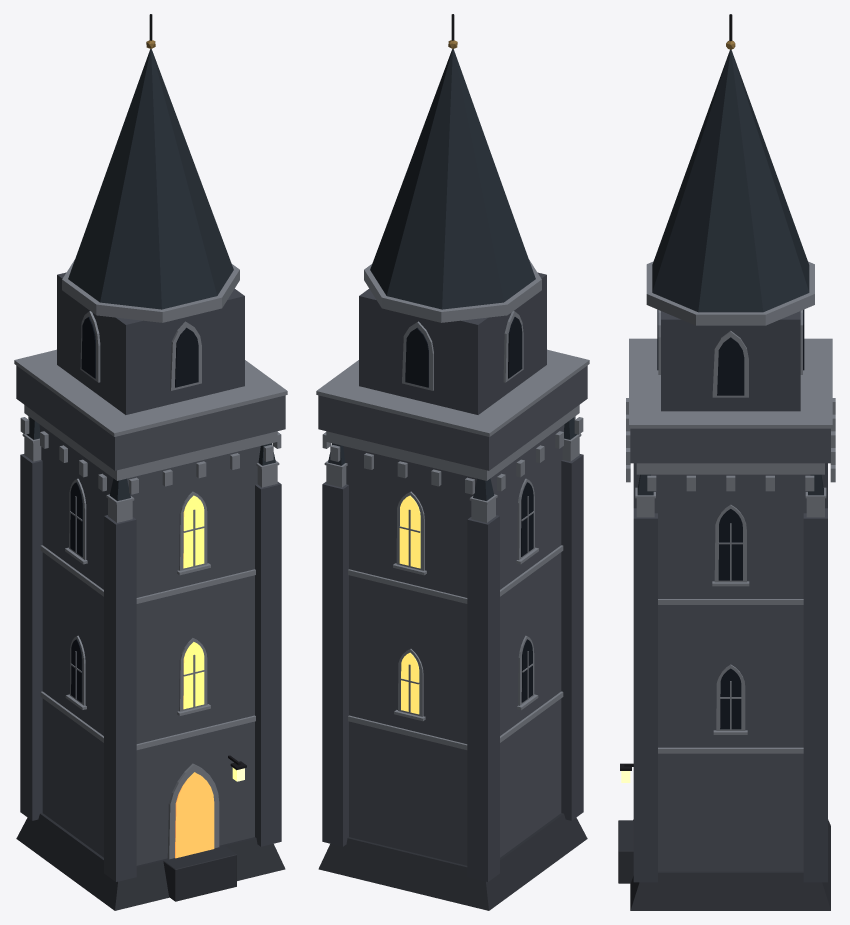
The model's file is gothic_bridge_tower.glb.
3 renders of one model, left to right at view 1: azimuth 30°, elevation 25°; view 2: azimuth 150°, elevation 25°; view 3: azimuth 270°, elevation 25°, orthographic.
Visible parts, largest first — view 1: gothic_bridge_tower; view 2: gothic_bridge_tower; view 3: gothic_bridge_tower.
Part boxes in pixels (left/top/right/bottom): gothic_bridge_tower: left=14, top=14, right=287, bottom=910; gothic_bridge_tower: left=316, top=14, right=589, bottom=910; gothic_bridge_tower: left=618, top=14, right=835, bottom=910.
Bounding box in the file's own units: 6.9 × 31 × 7.15.
